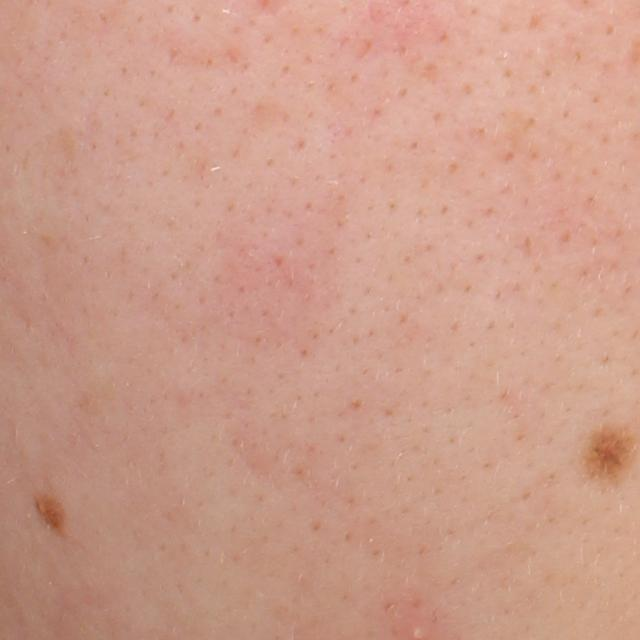nevus: (582, 422, 638, 490), (33, 492, 68, 537)
